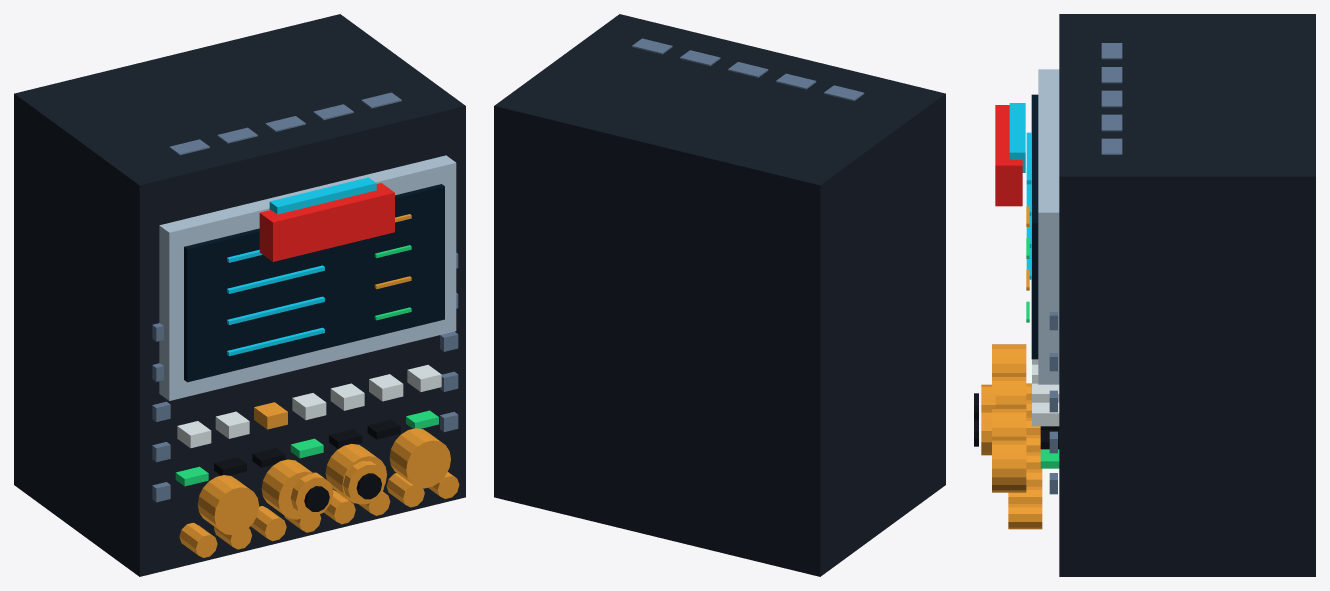
File: 86_L89_W149TrustedDoseFeedbackPatchStation.fbx
3 renders of one model, left to right at view 1: azimuth 30°, elevation 25°; view 2: azimuth 150°, elevation 25°; view 3: azimuth 270°, elevation 25°, orthographic. The views are drawn at different scales.
Parts seen in each view (by area): view 1: L87_W149TrustedDoseFeedbackPatchStation_Part_0000, L87_W149TrustedDoseFeedbackPatchStation_Part_0002, L87_W149TrustedDoseFeedbackPatchStation_Part_0001, L87_W149TrustedDoseFeedbackPatchStation_Part_0004, L87_W149TrustedDoseFeedbackPatchStation_Part_0010, L87_W149TrustedDoseFeedbackPatchStation_Part_0008, L87_W149TrustedDoseFeedbackPatchStation_Part_0006, L87_W149TrustedDoseFeedbackPatchStation_Part_0003, L87_W149TrustedDoseFeedbackPatchStation_Part_0007, L87_W149TrustedDoseFeedbackPatchStation_Part_0005, L87_W149TrustedDoseFeedbackPatchStation_Part_0009, L87_W149TrustedDoseFeedbackPatchStation_Part_0011 (+1 smaller); view 2: L87_W149TrustedDoseFeedbackPatchStation_Part_0000, L87_W149TrustedDoseFeedbackPatchStation_Part_0008; view 3: L87_W149TrustedDoseFeedbackPatchStation_Part_0000, L87_W149TrustedDoseFeedbackPatchStation_Part_0004, L87_W149TrustedDoseFeedbackPatchStation_Part_0001, L87_W149TrustedDoseFeedbackPatchStation_Part_0008, L87_W149TrustedDoseFeedbackPatchStation_Part_0010, L87_W149TrustedDoseFeedbackPatchStation_Part_0002, L87_W149TrustedDoseFeedbackPatchStation_Part_0006, L87_W149TrustedDoseFeedbackPatchStation_Part_0009, L87_W149TrustedDoseFeedbackPatchStation_Part_0003, L87_W149TrustedDoseFeedbackPatchStation_Part_0005, L87_W149TrustedDoseFeedbackPatchStation_Part_0013.
Part boxes in pixels (x1,y1,x2,y2): L87_W149TrustedDoseFeedbackPatchStation_Part_0000: [14, 14, 465, 576]; L87_W149TrustedDoseFeedbackPatchStation_Part_0002: [184, 184, 444, 382]; L87_W149TrustedDoseFeedbackPatchStation_Part_0001: [159, 155, 456, 400]; L87_W149TrustedDoseFeedbackPatchStation_Part_0004: [179, 214, 459, 557]; L87_W149TrustedDoseFeedbackPatchStation_Part_0010: [259, 183, 394, 261]; L87_W149TrustedDoseFeedbackPatchStation_Part_0008: [152, 92, 458, 502]; L87_W149TrustedDoseFeedbackPatchStation_Part_0006: [177, 365, 441, 448]; L87_W149TrustedDoseFeedbackPatchStation_Part_0003: [227, 249, 324, 356]; L87_W149TrustedDoseFeedbackPatchStation_Part_0007: [214, 420, 400, 475]; L87_W149TrustedDoseFeedbackPatchStation_Part_0005: [175, 245, 438, 486]; L87_W149TrustedDoseFeedbackPatchStation_Part_0009: [269, 177, 376, 214]; L87_W149TrustedDoseFeedbackPatchStation_Part_0011: [290, 472, 333, 516]; L87_W149TrustedDoseFeedbackPatchStation_Part_0000: [494, 14, 945, 576]; L87_W149TrustedDoseFeedbackPatchStation_Part_0008: [632, 38, 864, 101]; L87_W149TrustedDoseFeedbackPatchStation_Part_0000: [1059, 14, 1315, 576]; L87_W149TrustedDoseFeedbackPatchStation_Part_0004: [992, 206, 1042, 529]; L87_W149TrustedDoseFeedbackPatchStation_Part_0001: [1038, 69, 1059, 384]; L87_W149TrustedDoseFeedbackPatchStation_Part_0008: [1049, 43, 1122, 494]; L87_W149TrustedDoseFeedbackPatchStation_Part_0010: [995, 105, 1022, 206]; L87_W149TrustedDoseFeedbackPatchStation_Part_0002: [1031, 94, 1038, 359]; L87_W149TrustedDoseFeedbackPatchStation_Part_0006: [1032, 359, 1059, 426]; L87_W149TrustedDoseFeedbackPatchStation_Part_0009: [1009, 103, 1025, 172]; L87_W149TrustedDoseFeedbackPatchStation_Part_0003: [1026, 132, 1031, 279]; L87_W149TrustedDoseFeedbackPatchStation_Part_0005: [1026, 238, 1059, 468]; L87_W149TrustedDoseFeedbackPatchStation_Part_0013: [981, 410, 991, 455].
Bounding box in the file's own units: 112 × 129 × 99.6.
